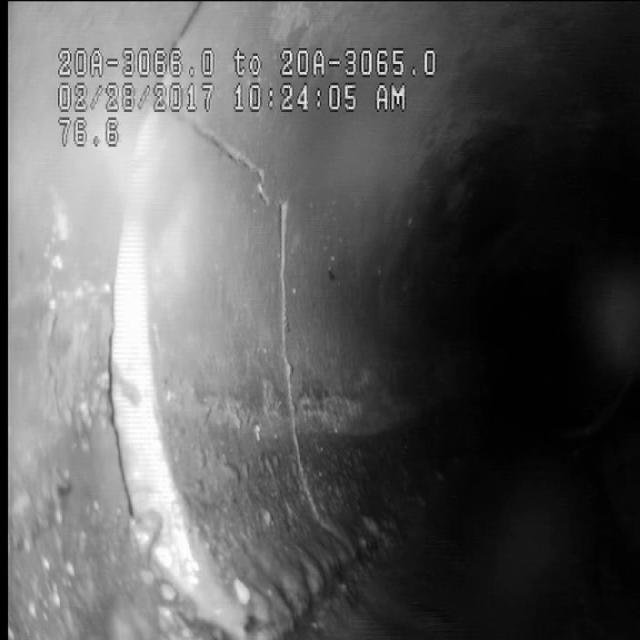Crack: (222, 132, 342, 480)
